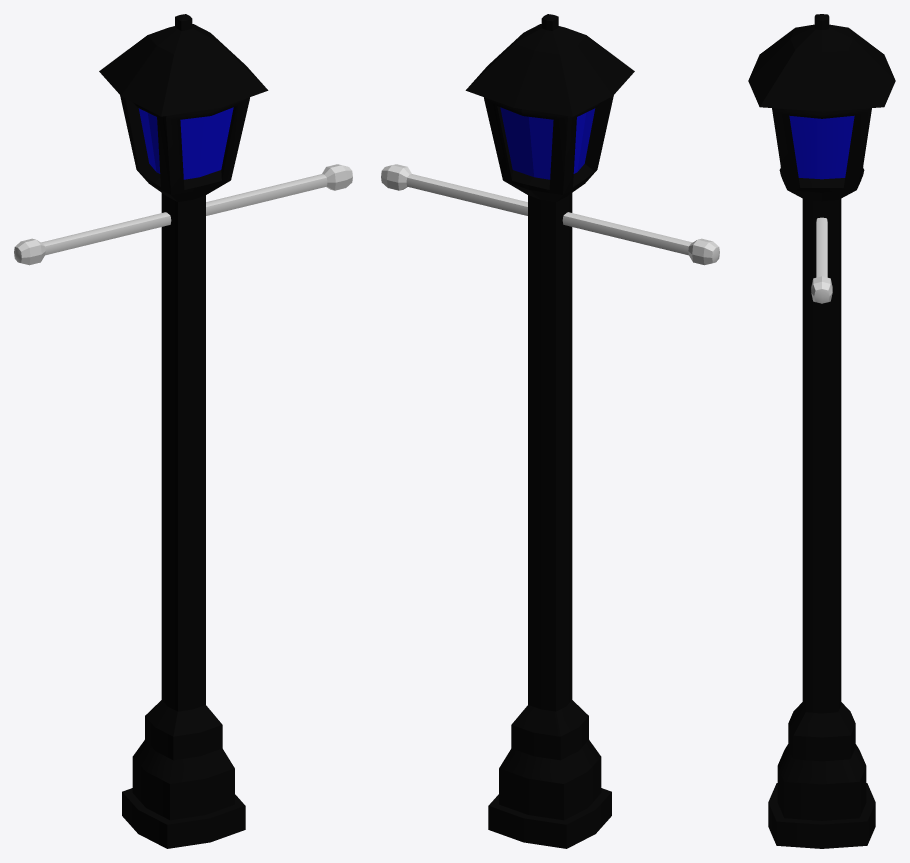
File: light post.fbx
The picture shows the model from 3 angles, left to right: view 1: azimuth 30°, elevation 25°; view 2: azimuth 150°, elevation 25°; view 3: azimuth 270°, elevation 25°; orthographic projection.
Parts seen in each view (by area): view 1: pCube635, pCube92; view 2: pCube635, pCube92; view 3: pCube635, pCube92.
Part boxes in pixels (x1=…): pCube635: x1=99, y1=14, x2=268, y2=848; pCube92: x1=14, y1=164, x2=352, y2=265; pCube635: x1=465, y1=14, x2=634, y2=848; pCube92: x1=381, y1=164, x2=719, y2=265; pCube635: x1=748, y1=14, x2=895, y2=848; pCube92: x1=811, y1=217, x2=832, y2=303.
Bounding box in the file's own units: 5.77 × 13.26 × 2.18.
